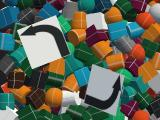Left: (17, 15, 71, 69), (84, 64, 125, 116)
